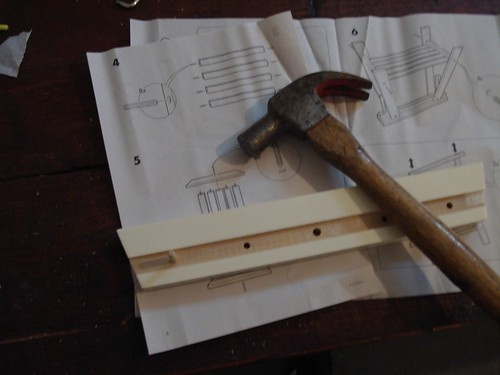hammer: (235, 69, 500, 306)
